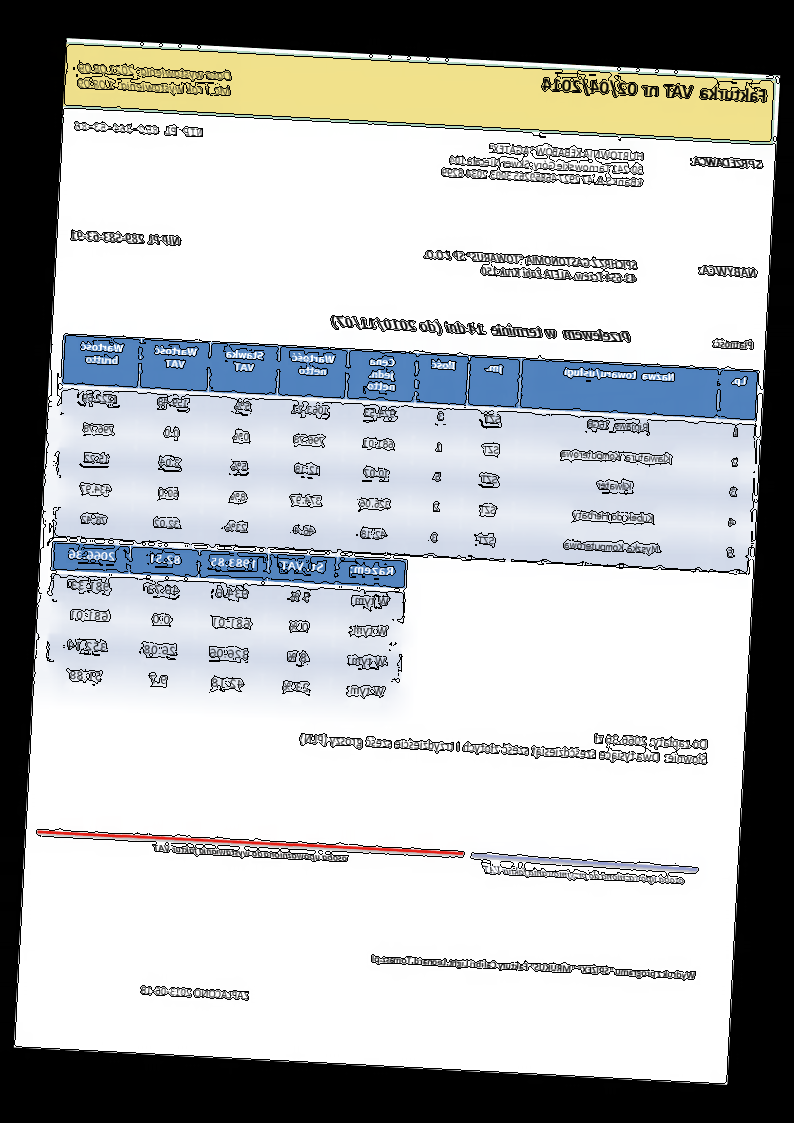Table: (53, 333, 760, 574), (45, 539, 408, 712)
TextBox: (299, 716, 710, 769), (329, 313, 634, 347), (440, 139, 647, 188), (369, 952, 697, 982), (422, 246, 640, 285), (540, 75, 769, 106), (74, 60, 234, 99), (481, 863, 687, 887), (152, 841, 348, 866), (72, 118, 207, 140), (68, 228, 183, 248), (137, 983, 252, 1001), (689, 153, 764, 170), (696, 261, 760, 280), (711, 336, 757, 351)
